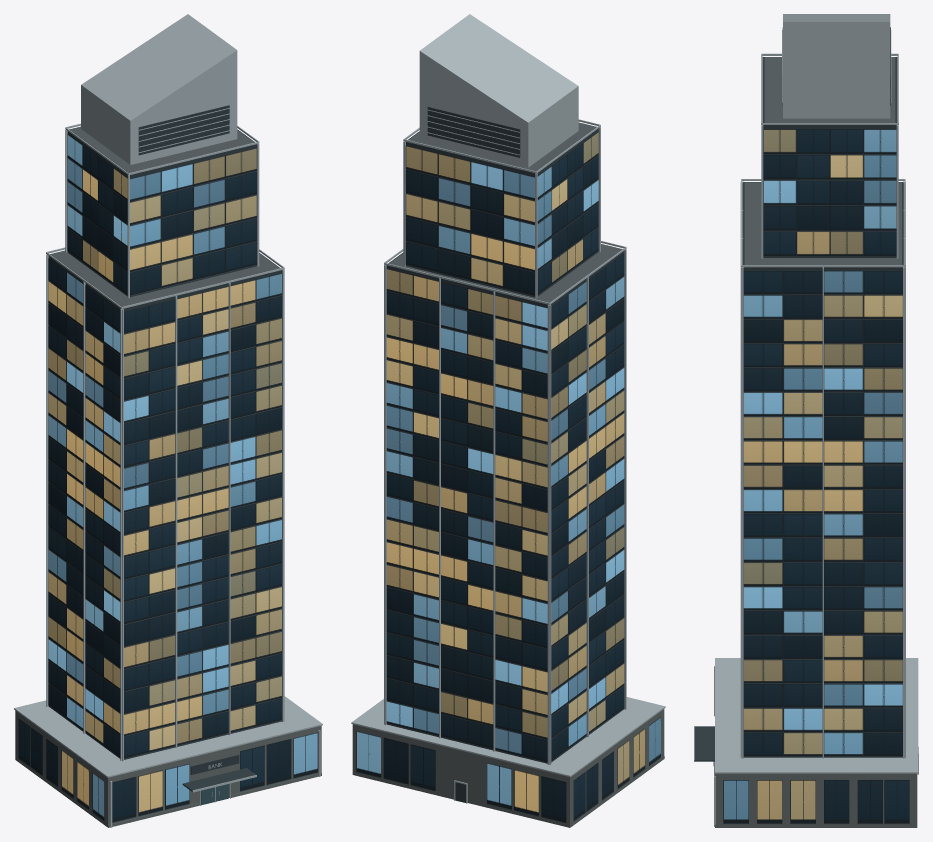
The model's file is bank2.glb.
The picture shows the model from 3 angles, left to right: view 1: azimuth 30°, elevation 25°; view 2: azimuth 150°, elevation 25°; view 3: azimuth 270°, elevation 25°; orthographic projection. The views are drawn at different scales.
Visible parts, largest first — view 1: Main curtain wall, Main curtain returns, Upper curtain wall, Sloped crown, Upper curtain returns, Lobby glazing, Podium coping, Banking podium, Vertical steel fins, Main tower core, Side steel fins, Lobby returns (+9 smaller); view 2: Main curtain wall, Main curtain returns, Upper curtain wall, Sloped crown, Upper curtain returns, Banking podium, Lobby glazing, Vertical steel fins, Podium coping, Side steel fins, Main tower core, Lobby returns (+7 smaller); view 3: Main curtain returns, Upper curtain returns, Sloped crown, Podium coping, Lobby returns, Main tower core, Banking podium, Side steel fins, First setback terrace, Vertical steel fins, Second setback terrace, Upper setback core (+3 smaller).
Boxes of the visible parts, x1,y1,x2,y2 form: Main curtain wall: (124,273,281,758); Main curtain returns: (48,258,120,757); Upper curtain wall: (130,148,256,295); Sloped crown: (81,14,237,164); Upper curtain returns: (67,134,127,295); Lobby glazing: (112,732,317,823); Podium coping: (14,696,322,777); Banking podium: (15,710,321,827); Vertical steel fins: (122,270,284,761); Main tower core: (48,251,281,759); Side steel fins: (46,254,284,760); Lobby returns: (18,718,104,821); Main curtain wall: (386,269,547,762); Main curtain returns: (551,254,624,761); Upper curtain wall: (405,146,534,296); Sloped crown: (419,14,578,167); Upper curtain returns: (537,132,598,295); Banking podium: (352,709,664,827); Lobby glazing: (356,731,566,823); Vertical steel fins: (384,265,549,764); Podium coping: (351,697,665,777); Side steel fins: (384,249,626,764); Main tower core: (386,244,624,763); Lobby returns: (573,717,660,821); Main curtain returns: (743,271,902,756); Upper curtain returns: (763,129,896,256); Sloped crown: (783,14,890,118); Podium coping: (715,658,918,773); Lobby returns: (723,780,909,824); Main tower core: (743,182,903,757); Banking podium: (716,773,917,827); Side steel fins: (742,181,904,758); First setback terrace: (744,182,901,264); Vertical steel fins: (740,182,905,757); Second setback terrace: (764,57,895,122); Upper setback core: (763,57,896,257).
Bounding box in the file's own units: 40.3 × 128 × 33.56.
6 materials, 2 textured.
